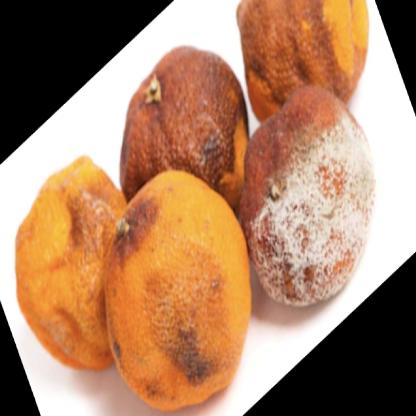rotten: (17, 1, 375, 416)
